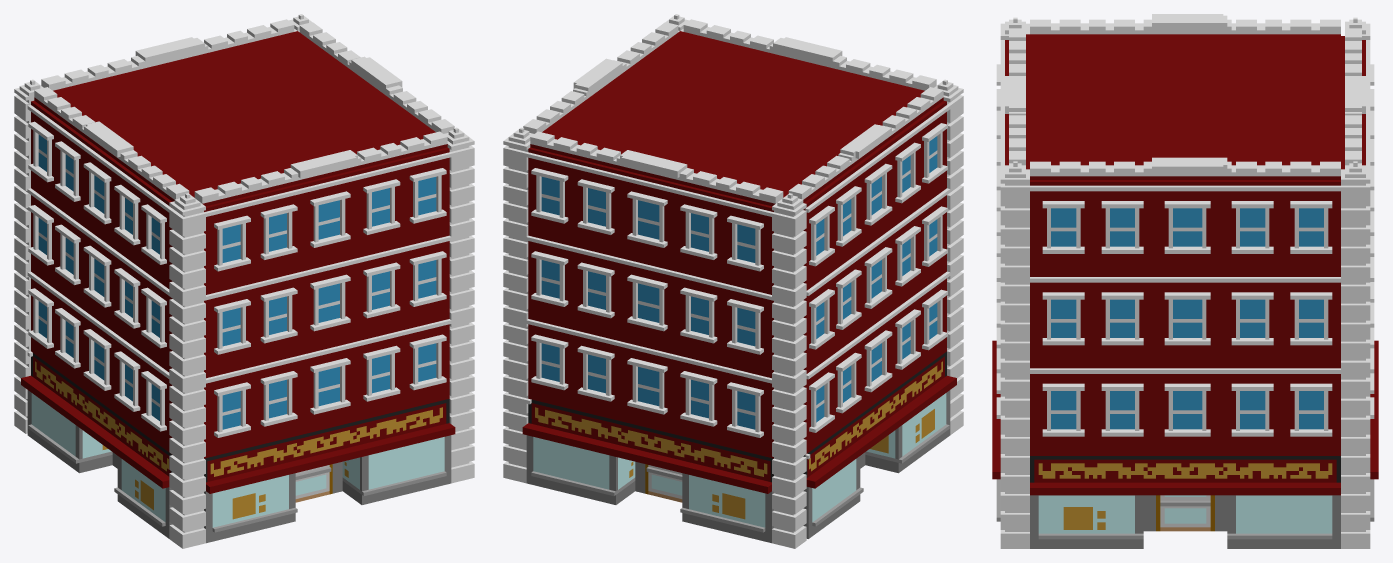
The model's file is obj_store01_Red.obj.
The picture shows the model from 3 angles, left to right: view 1: azimuth 30°, elevation 25°; view 2: azimuth 150°, elevation 25°; view 3: azimuth 270°, elevation 25°; orthographic projection. The views are drawn at different scales.
Bounding box in the file's own units: 9.2 × 10 × 9.2.
1 material, 1 textured.
